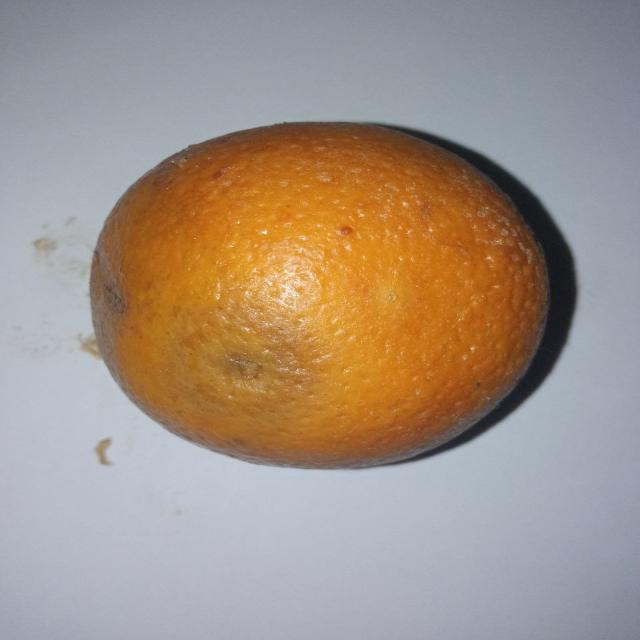rotten_orange: (87, 123, 548, 469)
